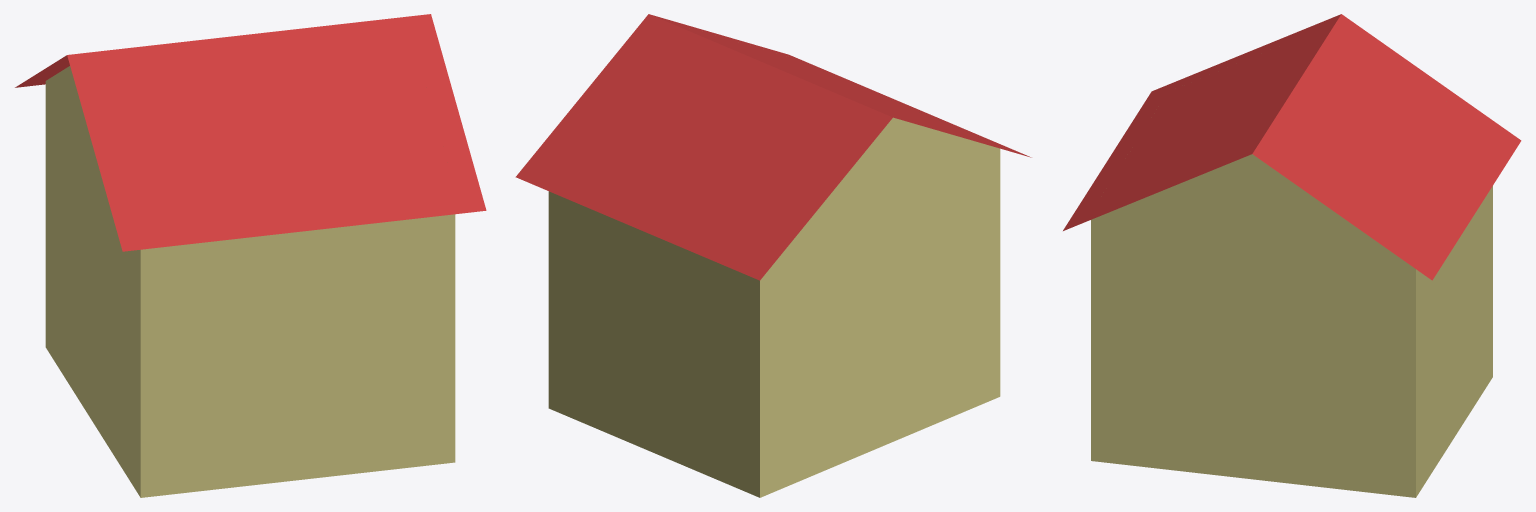
3 views of the same model, side by side, from view 1: azimuth 30°, elevation 25°; view 2: azimuth 150°, elevation 25°; view 3: azimuth 270°, elevation 25° (orthographic). The views are drawn at different scales.
Size of the model in its own units: 9.29 by 9.9 by 7.98.
